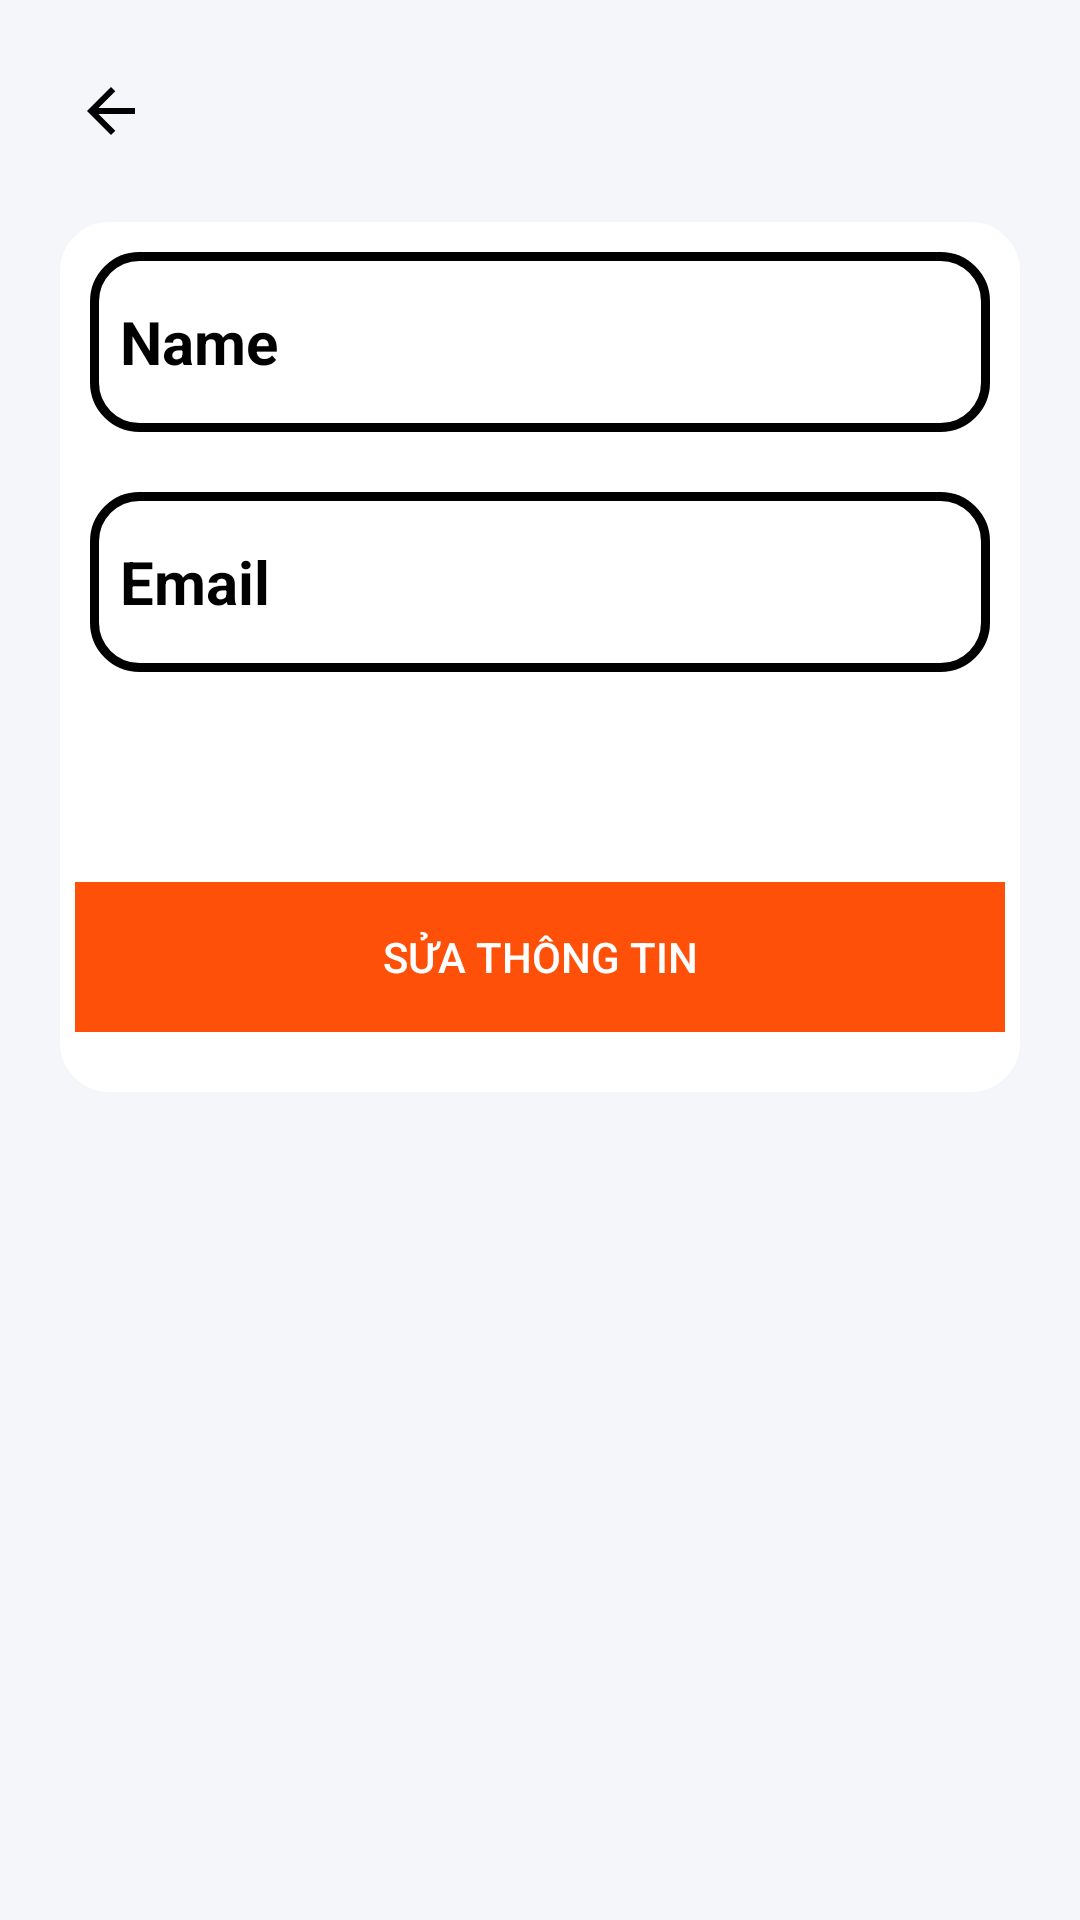

Icons on this 1080*1920 Android screen, each with its box as (x1, y1, x2, y2):
arrow back: (87, 87, 135, 135)
